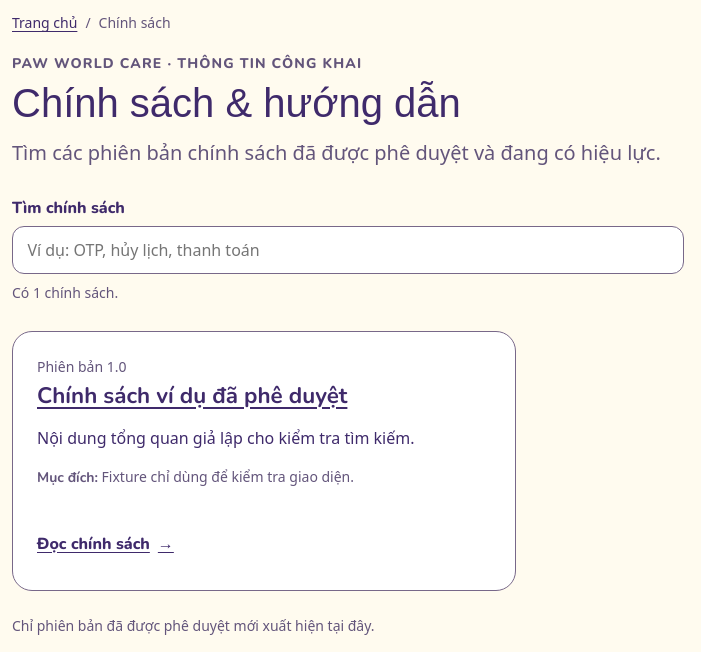
approved catalog entries can be searched and linked to a fixed version
Check: the heading "Chính sách & hướng dẫn" is shown, box [12,81,461,125]
In the search field labelled "Tìm chính sách": x=348, y=250 [12,226,684,274], type "từ-khóa-duyệt"
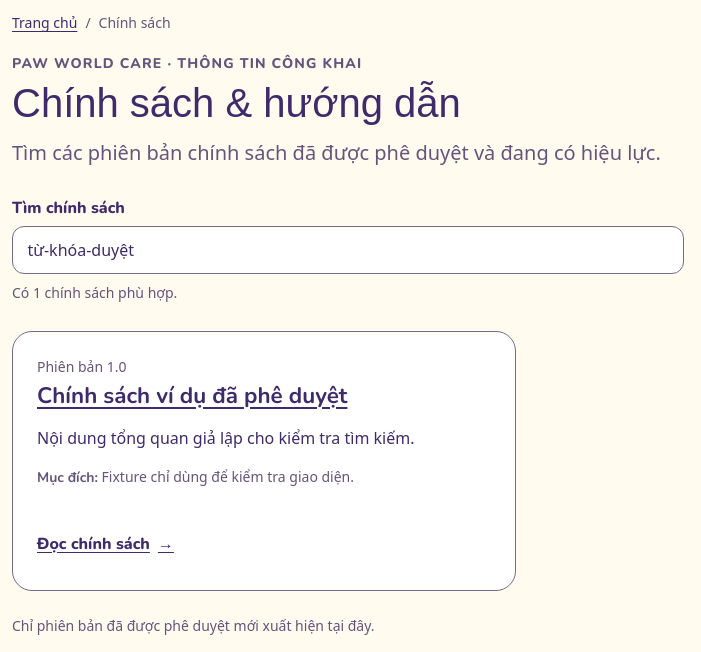
Check: the link "Chính sách ví dụ đã phê duyệt" is shown, box [37,380,347,410]
Replace the text in the search field labelled "Tìm chính sách" with "không khớp": x=348, y=250 [12,226,684,274]
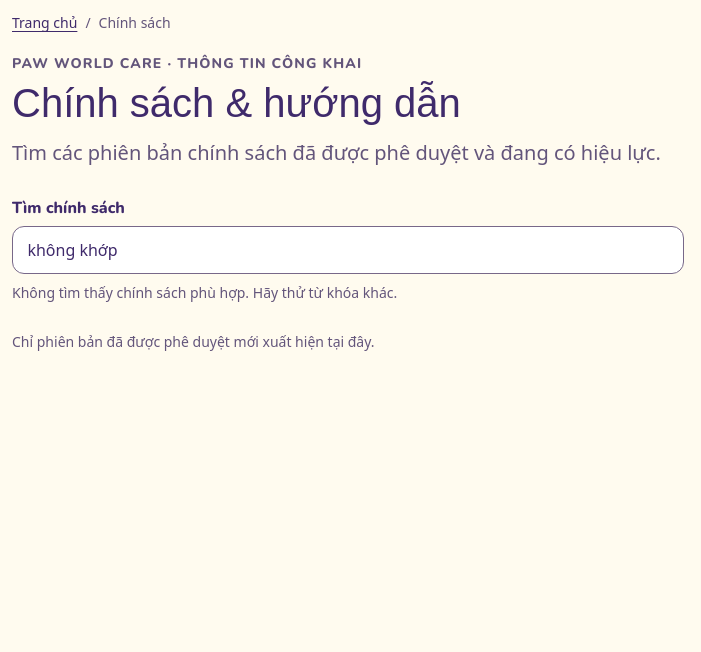
Check: the text "Không tìm thấy chính sách phù hợp. Hãy thử từ khóa khác." is shown, box [12,282,397,302]
